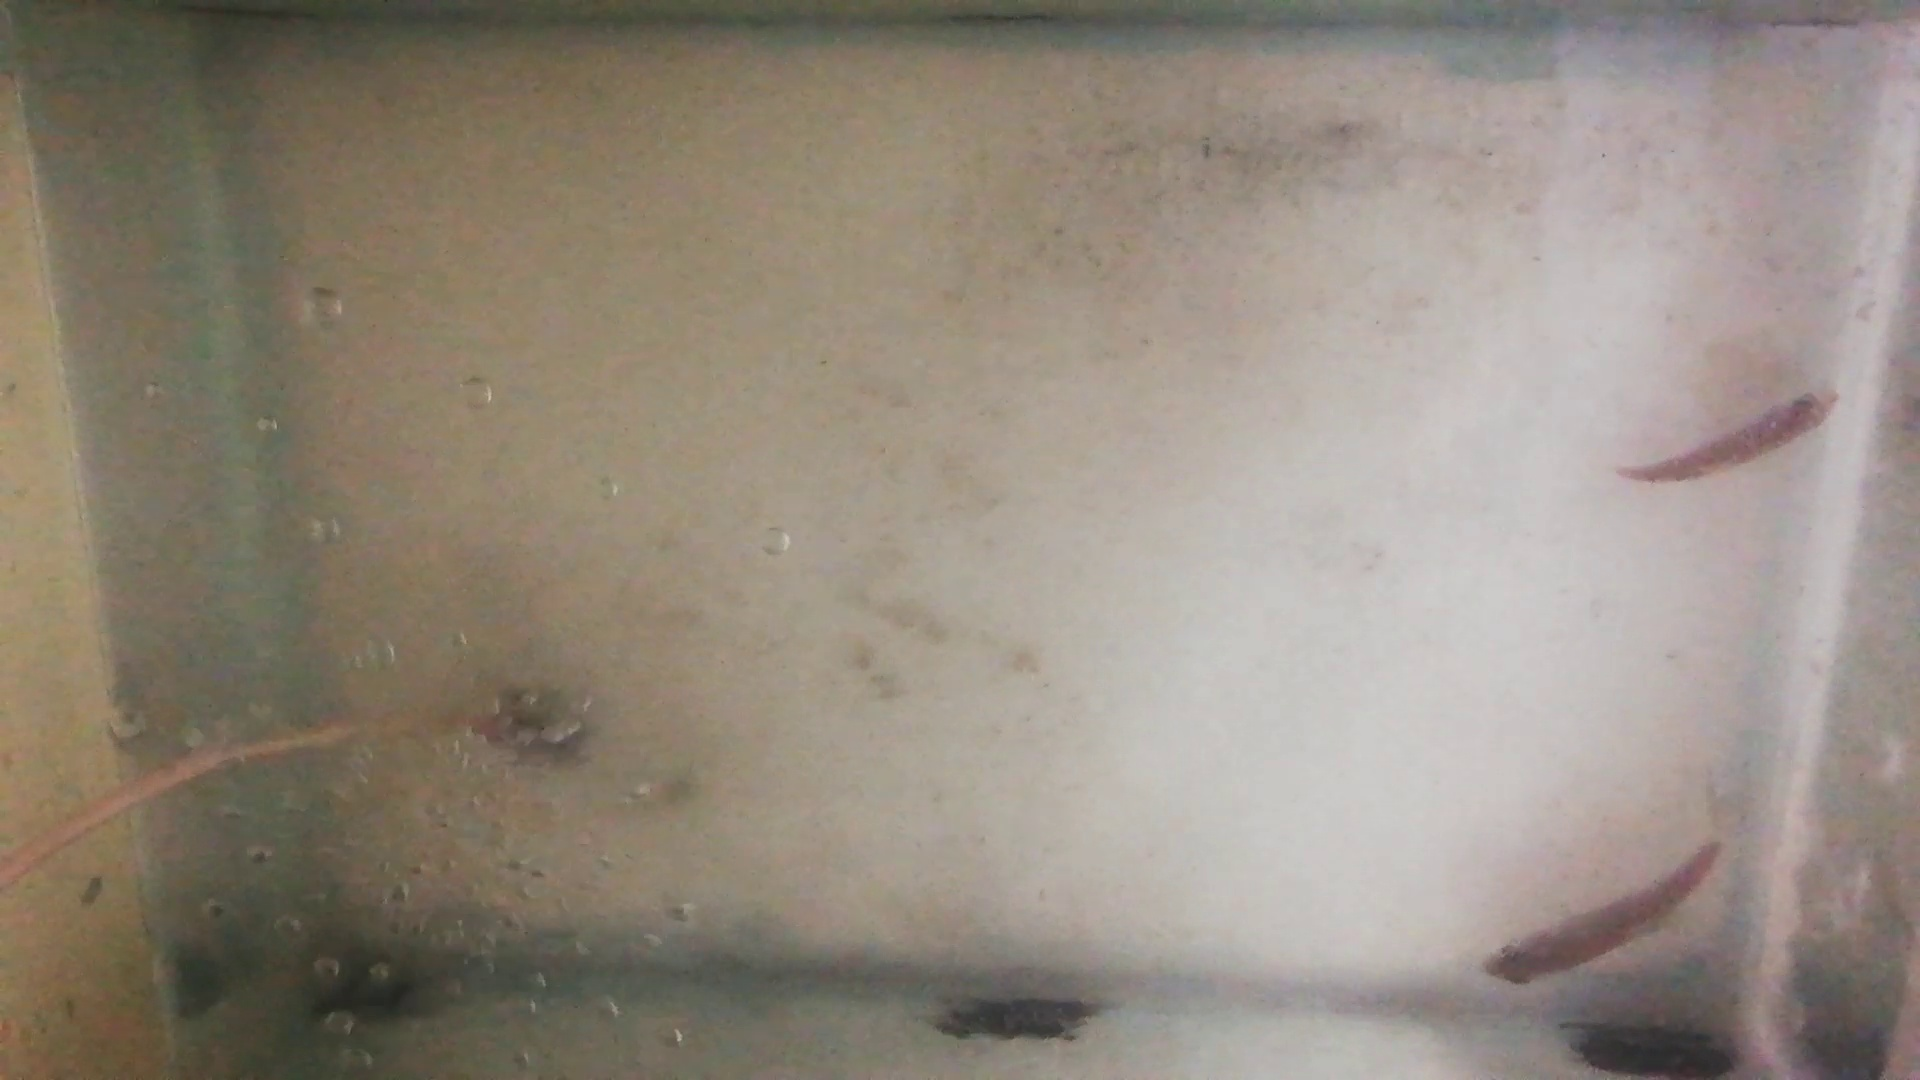fish: (1480, 837, 1725, 986), (1619, 382, 1840, 487)
